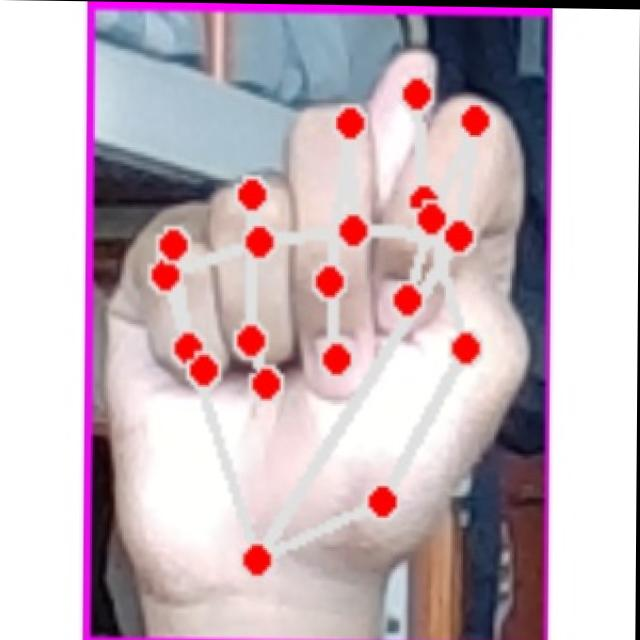T: (106, 27, 529, 592)
